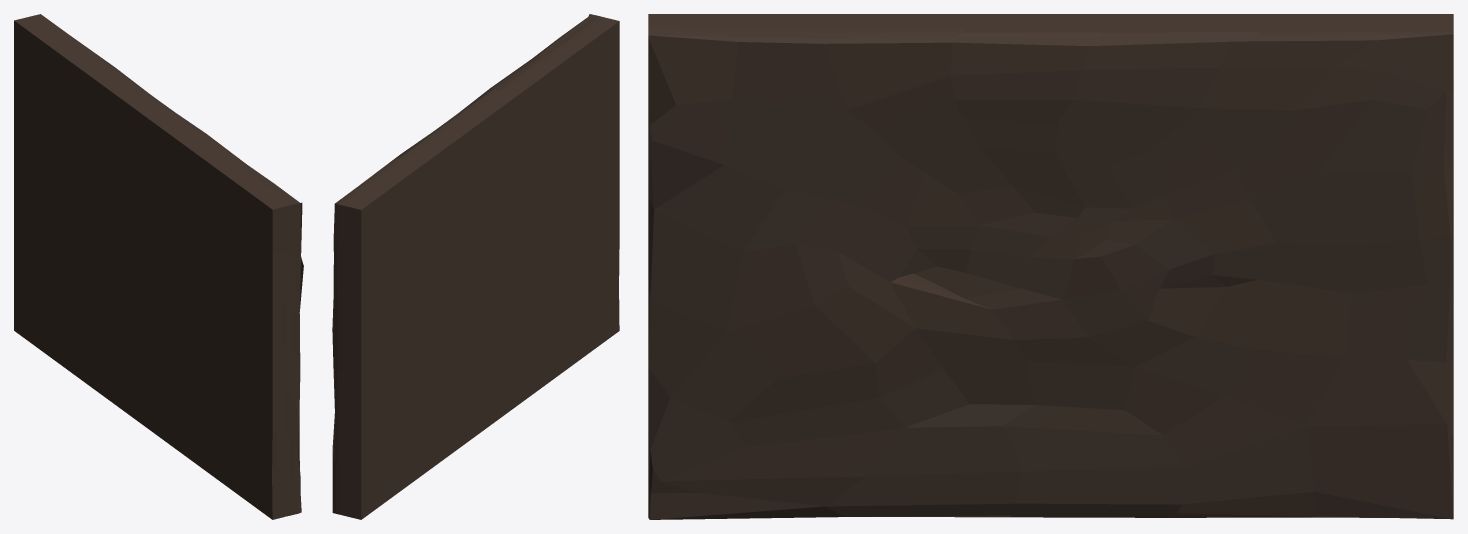
The model's file is Wall_type_01.fbx.
3 renders of one model, left to right at view 1: azimuth 30°, elevation 25°; view 2: azimuth 150°, elevation 25°; view 3: azimuth 270°, elevation 25°, orthographic. The views are drawn at different scales.
Parts seen in each view (by area): view 1: Retopo_Cube; view 2: Retopo_Cube; view 3: Retopo_Cube.
Boxes of the visible parts, x1,y1,x2,y2 form: Retopo_Cube: (14, 14, 303, 519); Retopo_Cube: (332, 14, 619, 519); Retopo_Cube: (648, 14, 1453, 519).
Bounding box in the file's own units: 34.82 × 289 × 436.
